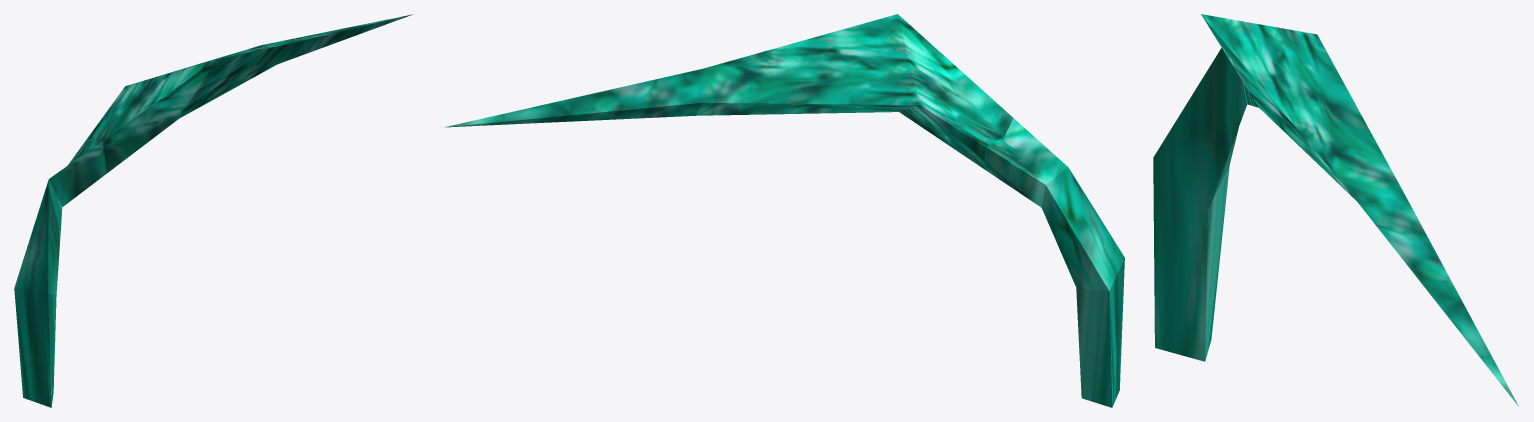
Rendered from H1_BluePlant_Branch_7.gltf.
3 views of the same model, side by side, from view 1: azimuth 30°, elevation 25°; view 2: azimuth 150°, elevation 25°; view 3: azimuth 270°, elevation 25° (orthographic). The views are drawn at different scales.
Visible parts, largest first — view 1: H1_BluePlant_Branch_7; view 2: H1_BluePlant_Branch_7; view 3: H1_BluePlant_Branch_7.
Boxes of the visible parts, x1,y1,x2,y2 form: H1_BluePlant_Branch_7: [14, 14, 412, 407]; H1_BluePlant_Branch_7: [445, 14, 1124, 407]; H1_BluePlant_Branch_7: [1153, 14, 1518, 406].
Bounding box in the file's own units: 6.97 × 4 × 2.8.
Materials: 1 (1 with a texture image).
